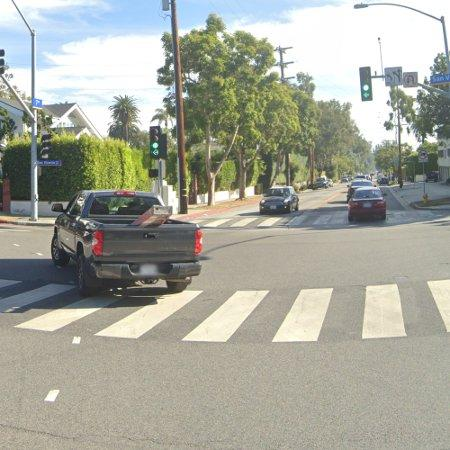crosswalks: (0, 276, 450, 346)
